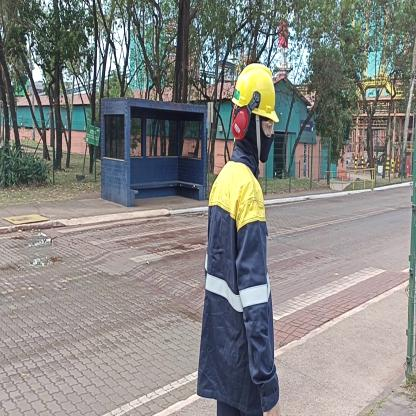Balaclava: (237, 107, 272, 164)
C_eletrica: (200, 164, 280, 416)
Capacete: (230, 57, 277, 115)
